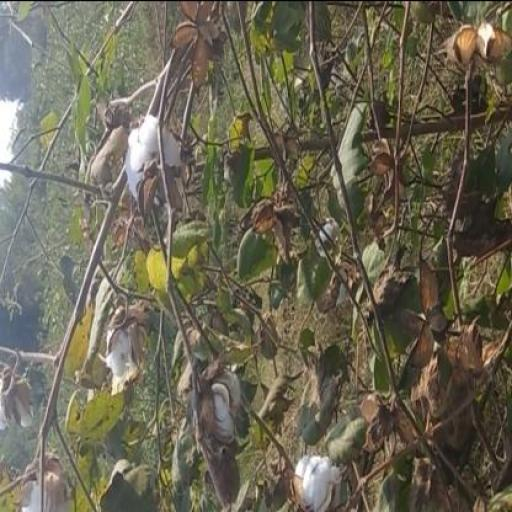cotton_ready: (121, 106, 192, 216), (292, 428, 350, 511)
